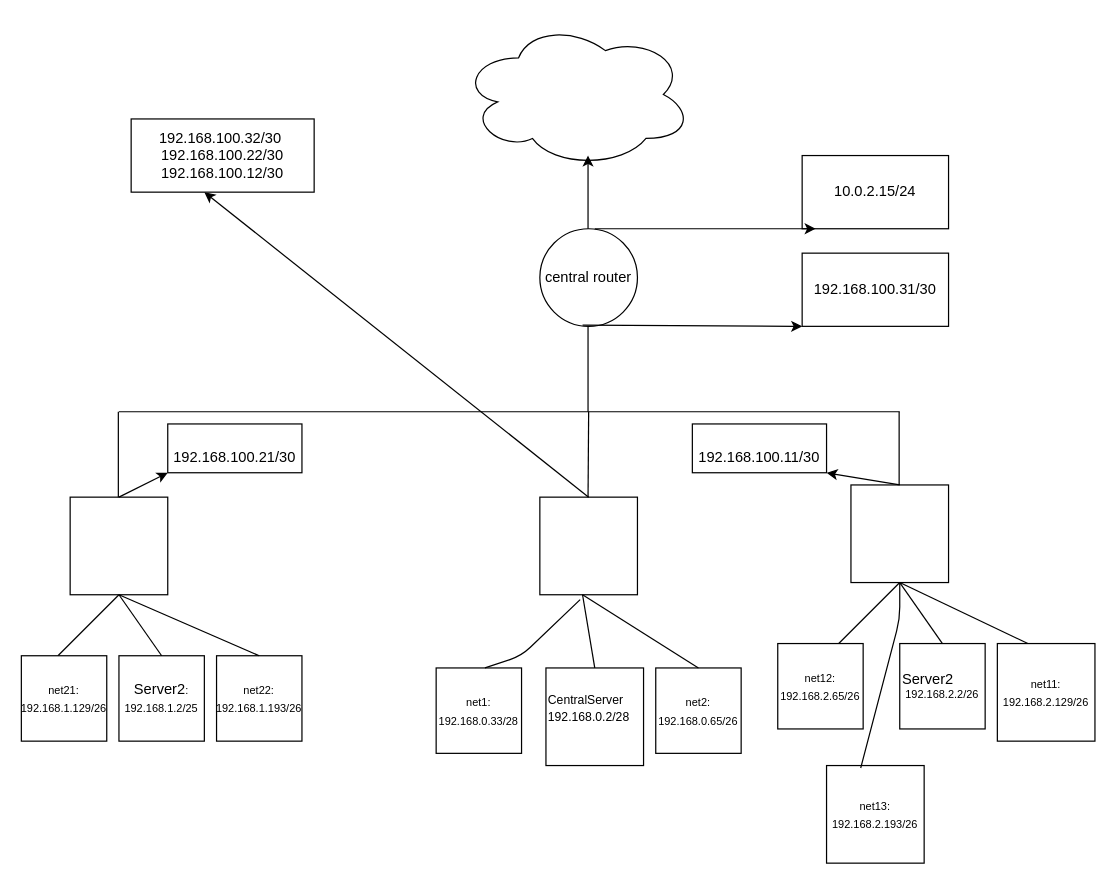
Some shapes in this 1116 by 885 pixel diagram are drawn without their labels. The centre of each missing label's shape, as x and y in pixels:
Central Office: [588,545]
inet: [575,94]
office1 Router: [899,533]
office2 Router: [118,545]
